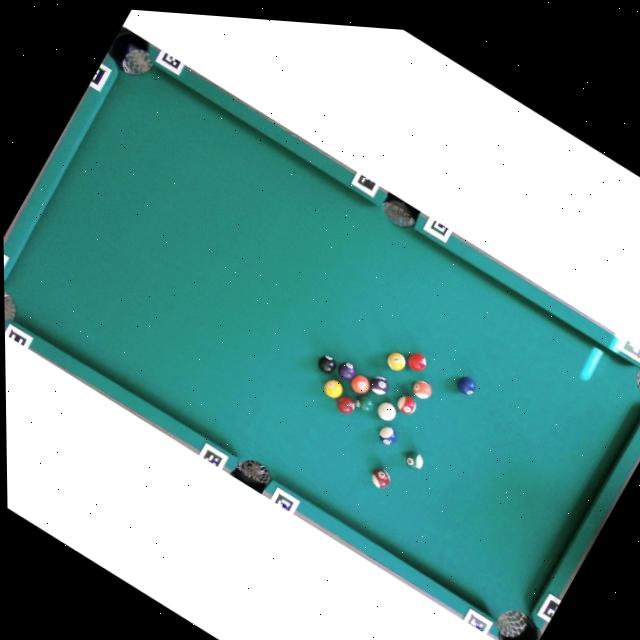cue ball: (374, 398, 399, 425)
other: (332, 392, 359, 419), (383, 349, 410, 376), (366, 372, 392, 400), (367, 465, 393, 493), (394, 391, 420, 419), (352, 391, 378, 418), (347, 371, 373, 398), (375, 423, 401, 450), (409, 376, 435, 403), (404, 349, 430, 375), (454, 372, 479, 399), (402, 447, 427, 474), (321, 376, 346, 403), (335, 358, 359, 385), (316, 352, 339, 377)
